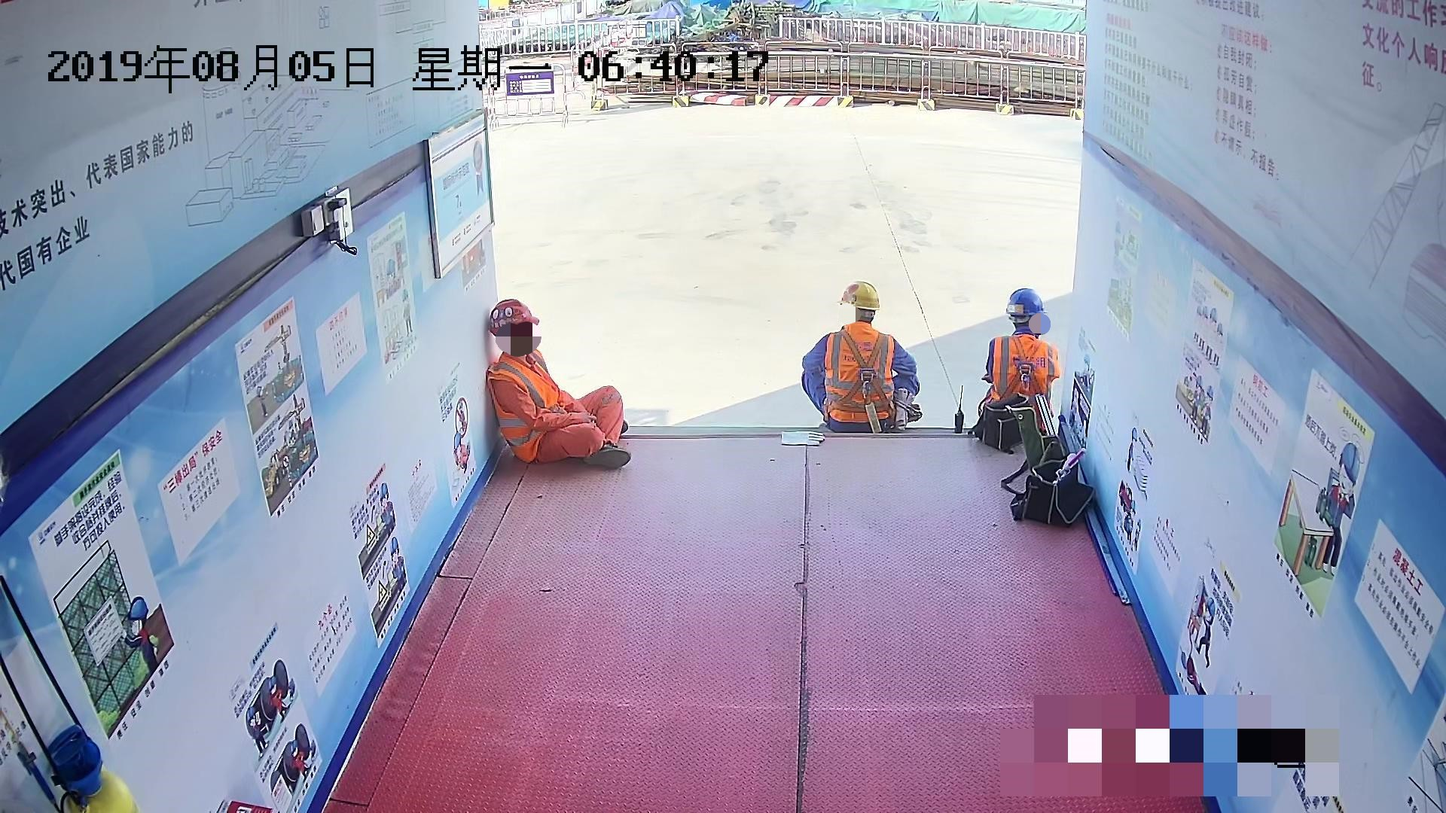hat: (487, 297, 542, 353), (834, 280, 881, 323), (1004, 285, 1048, 329)
person: (484, 294, 636, 471), (793, 278, 929, 442), (980, 281, 1066, 439)
